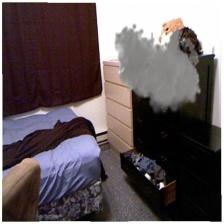fire: (114, 23, 202, 117)
